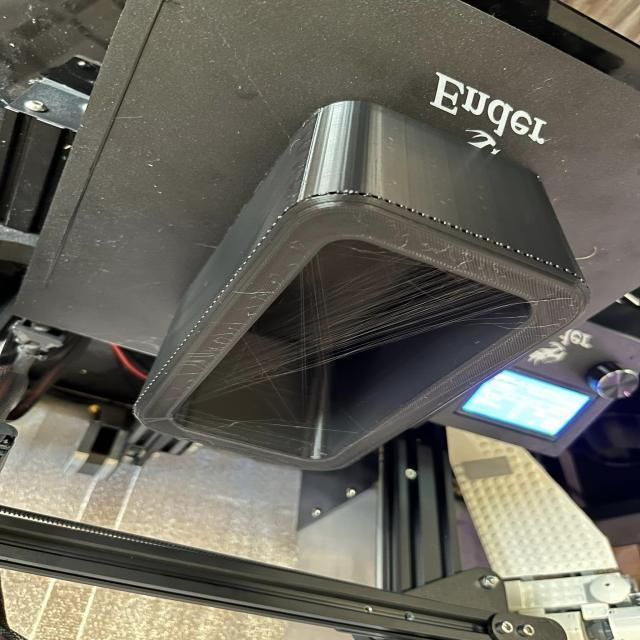stringing: (207, 257, 515, 407)
